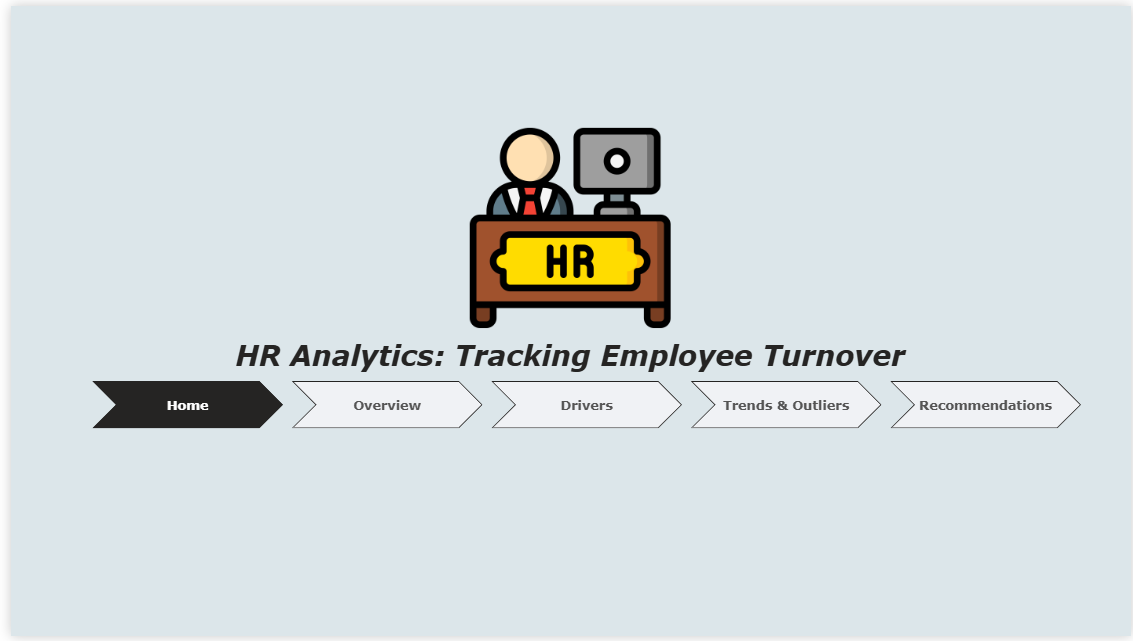

What the dashboard file says about the page in this screenshot:
{"tool":"powerbi","page":{"name":"Home","canvas":[1280,720],"ordinal":0},"visuals":[{"type":"image","box":[524.8,132.7,229.2,241.3],"z":0},{"type":"textbox","box":[230.4,374,818,54.3],"z":1000},{"type":"pageNavigator","box":[92.9,428.6,1134.3,54.3],"z":2000}]}

Visuals, with their boxes in screenshot pixels (x1, y1, x2, y2), scaled from the page's 1280x720 canvas onto the 1133x641 screenshot:
image: <bbox>465, 118, 667, 333</bbox>
textbox: <bbox>204, 333, 928, 381</bbox>
pageNavigator: <bbox>82, 382, 1086, 430</bbox>
